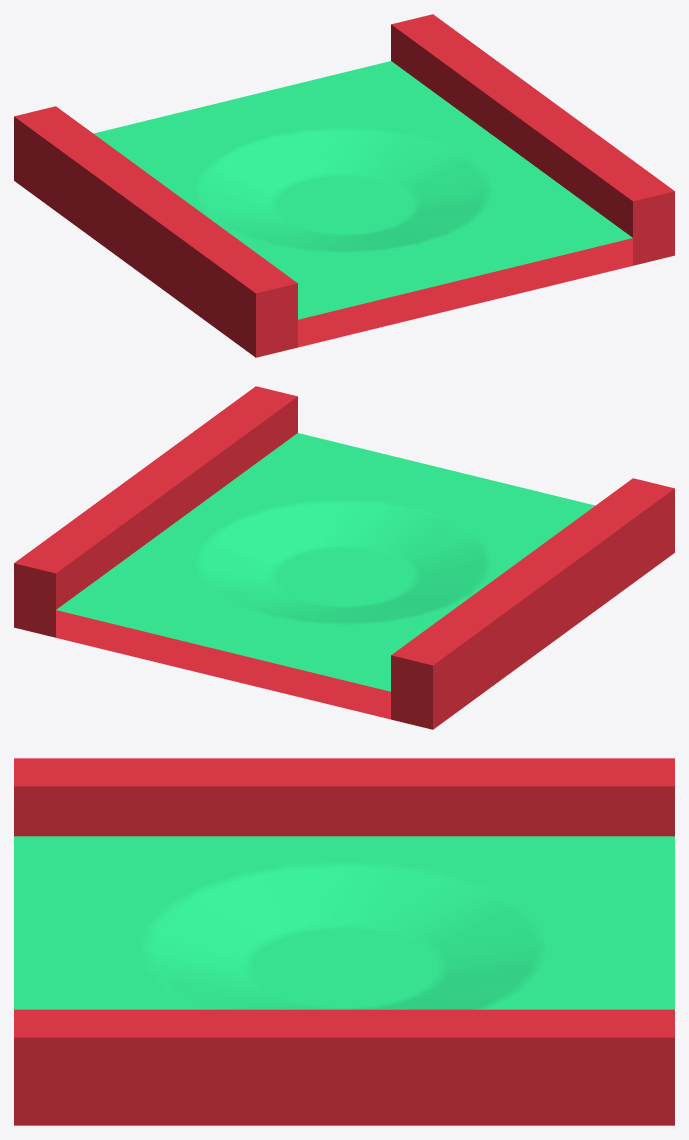
The model's file is bumpDownWalls.fbx.
3 renders of one model, top to bottom at view 1: azimuth 30°, elevation 25°; view 2: azimuth 150°, elevation 25°; view 3: azimuth 270°, elevation 25°, orthographic. The views are drawn at different scales.
Parts seen in each view (by area): view 1: bumpDownWalls; view 2: bumpDownWalls; view 3: bumpDownWalls.
Boxes of the visible parts, x1,y1,x2,y2 form: bumpDownWalls: [14, 14, 674, 357]; bumpDownWalls: [14, 386, 674, 729]; bumpDownWalls: [14, 758, 674, 1125].
Size of the model in its own units: 99.99 by 99.99 by 14.67.
